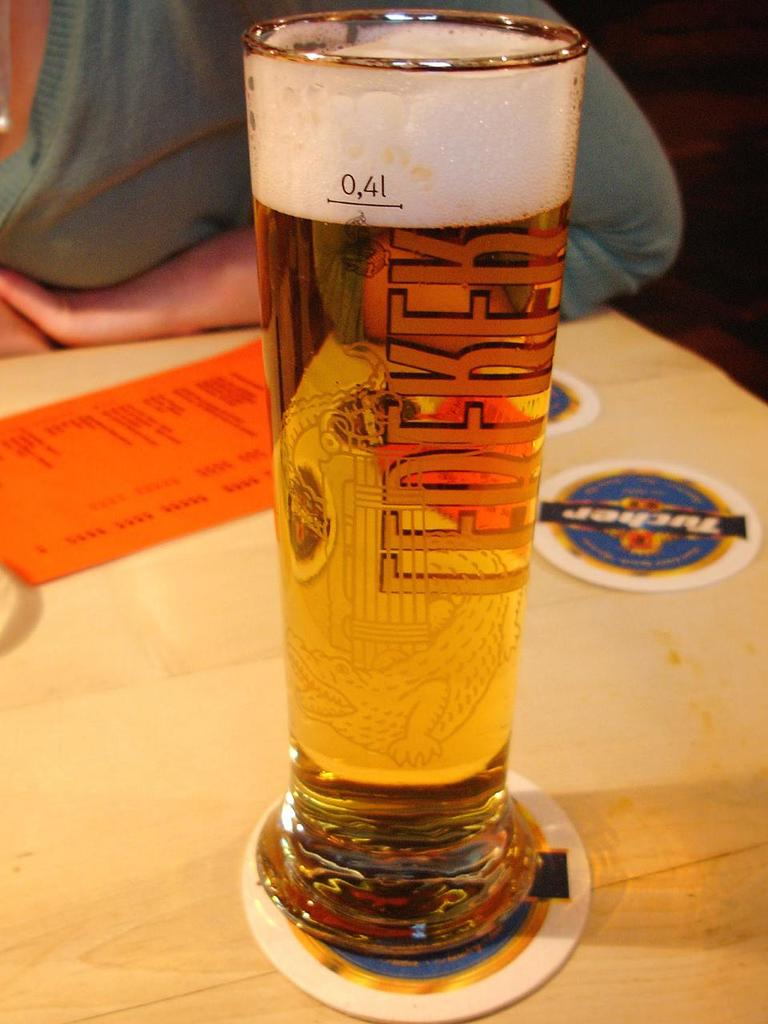Beer: (231, 15, 580, 931)
